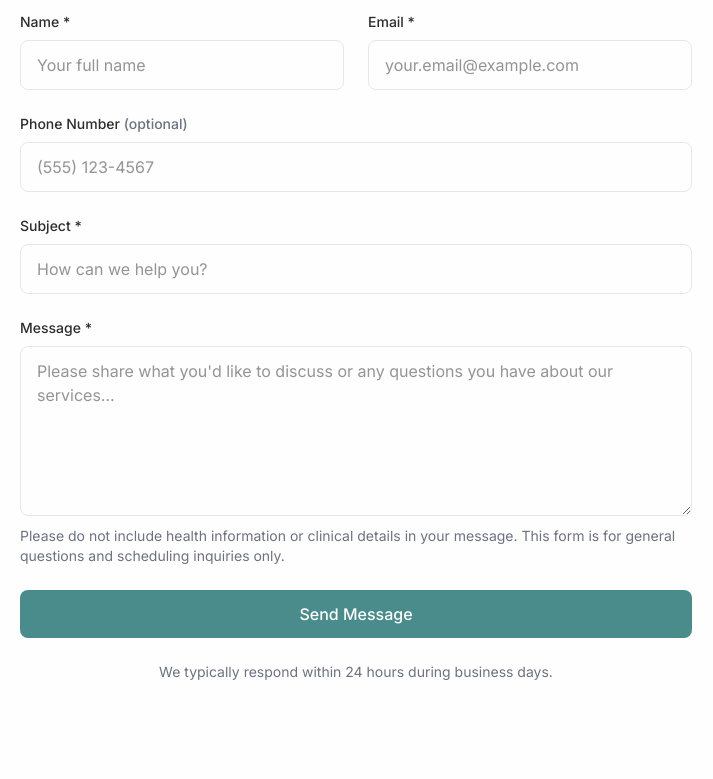
Test: ContactForm › shows success message after successful submission
Fill out the form with valid data
Type "John Doe" into the field labelled "Name *". click: (182, 65)
box: [20,40,344,90]
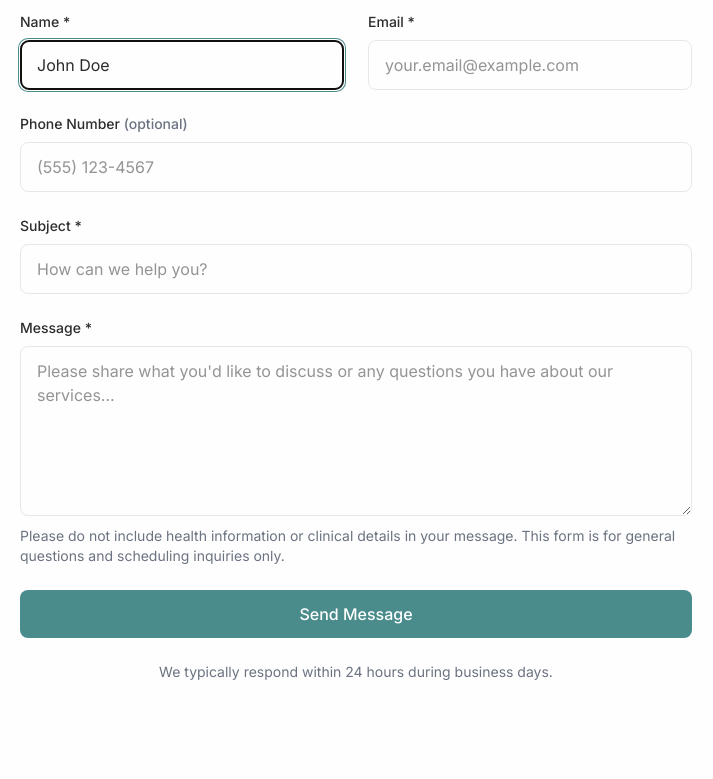
Type "john@example.com" into the field labelled "Email *". click: (530, 65)
box: [368,40,692,90]
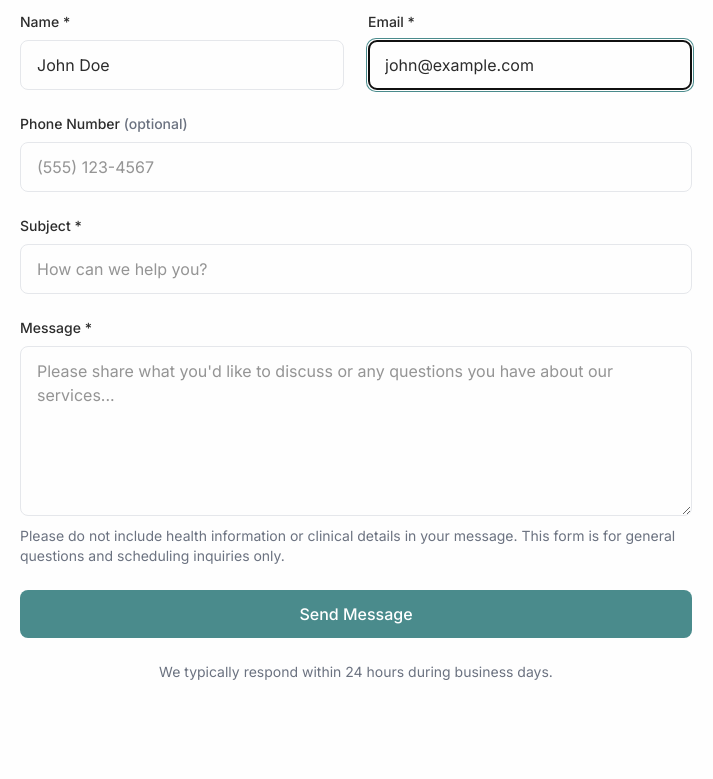
Type "Test subject" into the field labelled "Subject *". click: (356, 269)
box: [20,244,692,294]
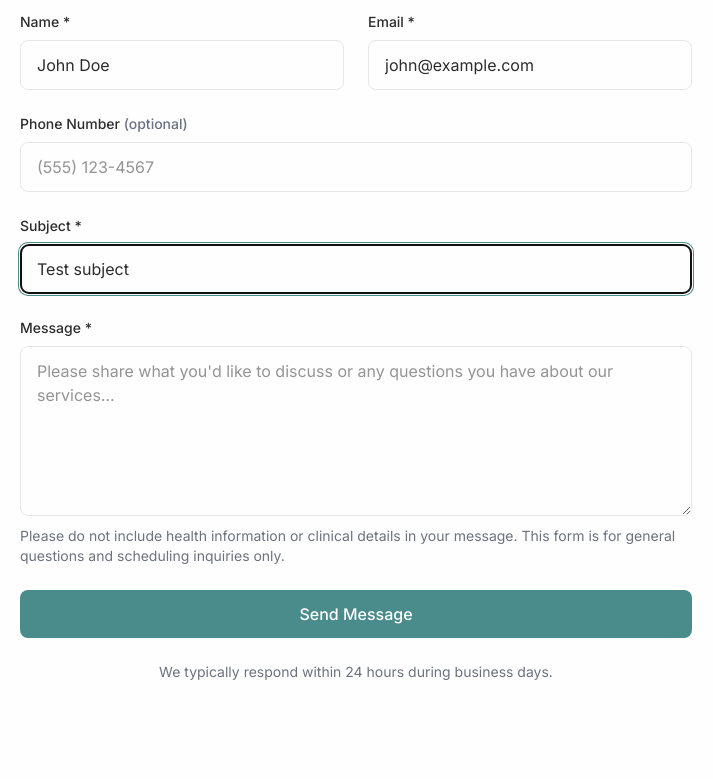
Type "This is a test message." into the text box labelled "Message *". click: (356, 431)
box: [20,346,692,516]
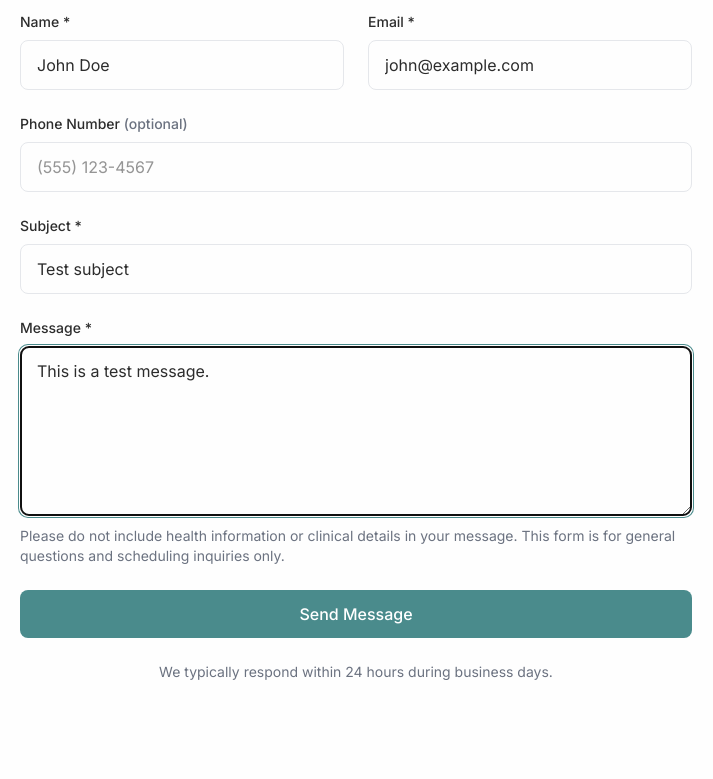
Click the button "Send Message". click: (356, 614)
box: [20,590,692,638]
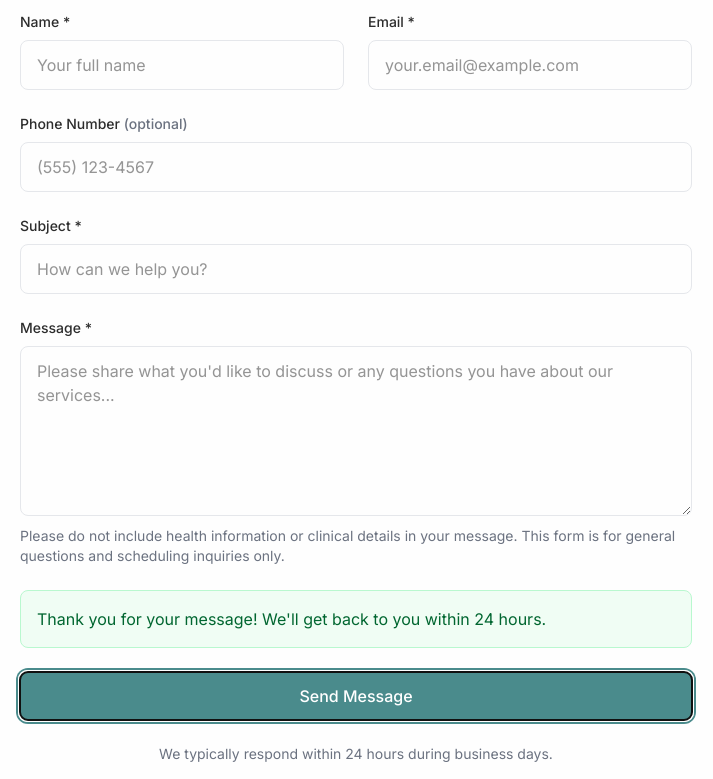
Expected: the text "Thank you for your message" is shown, [37,609,546,629]
